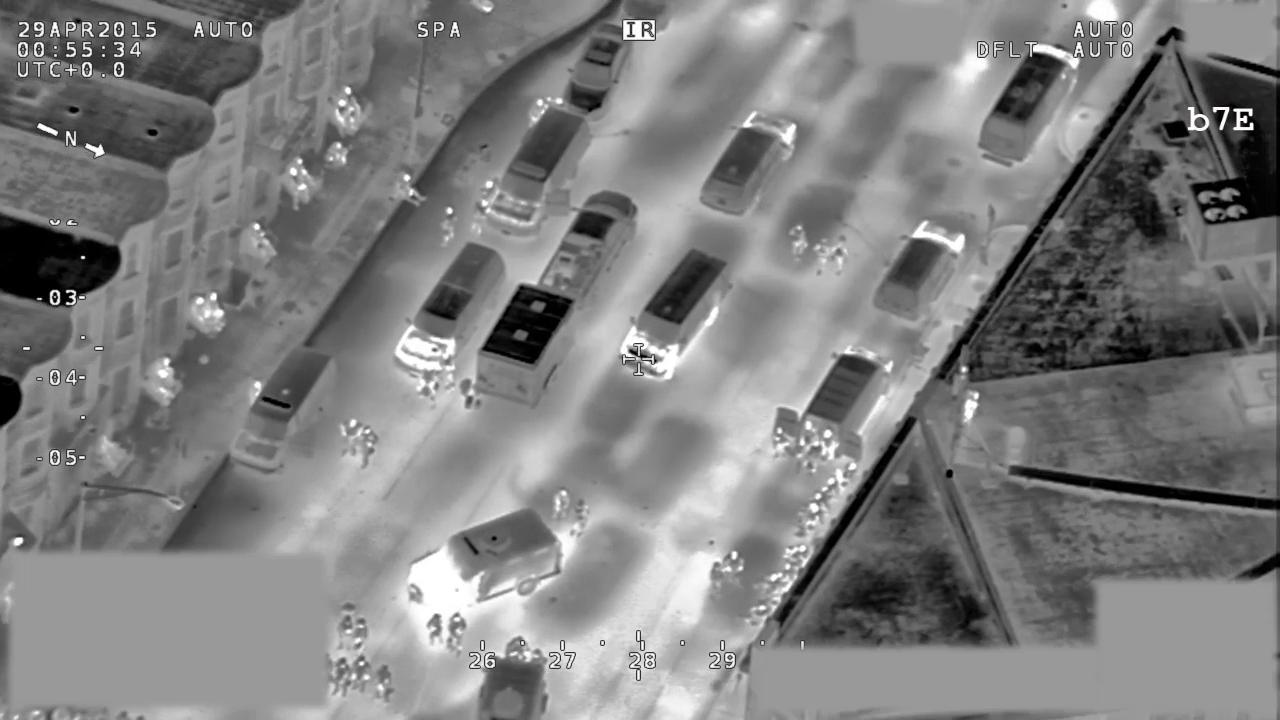vehicle: (402, 509, 565, 624), (392, 242, 506, 384), (771, 345, 899, 469), (619, 248, 729, 387), (485, 108, 594, 235), (231, 350, 339, 476), (977, 42, 1083, 170), (474, 281, 576, 410), (698, 111, 799, 220), (546, 191, 641, 296), (873, 220, 968, 322), (561, 20, 638, 110)
